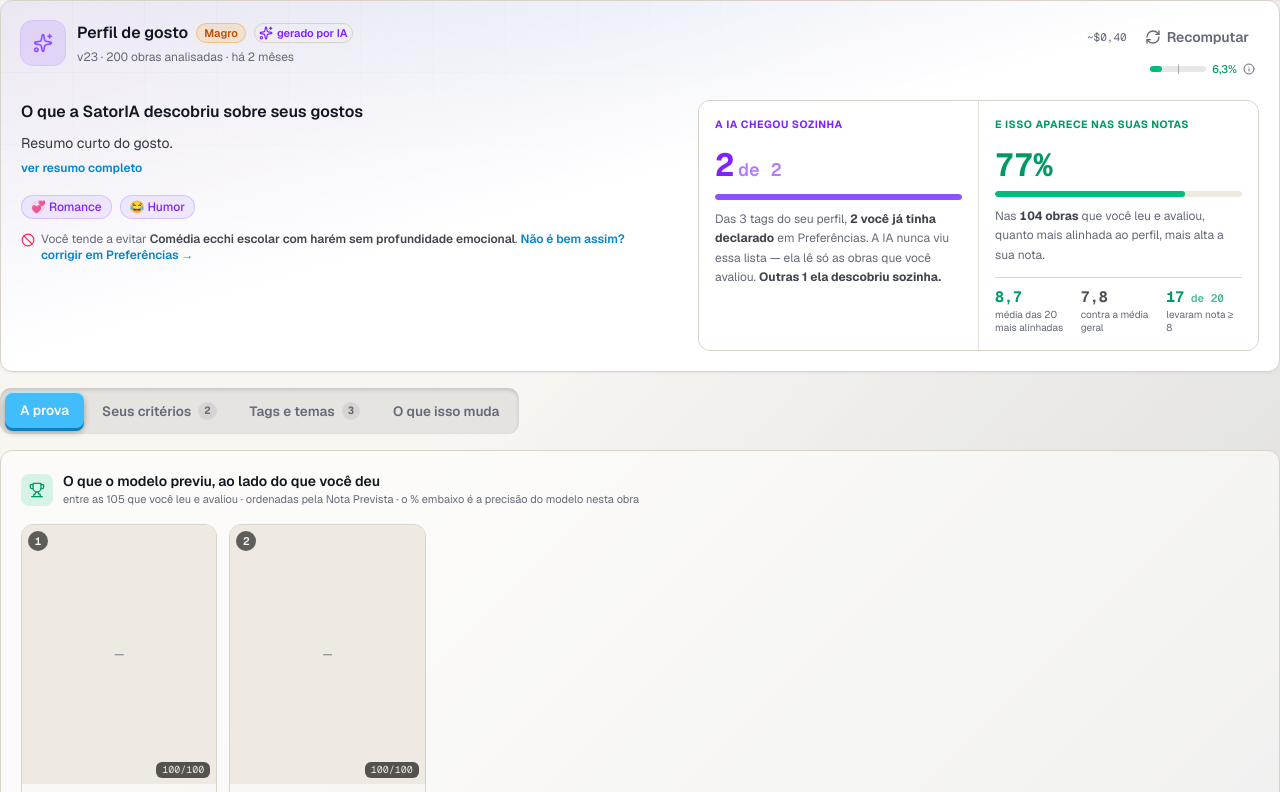
aba Tags e temas › agrupa por ORIGEM, e a descoberta não vira concordância
Click the tab "Tags e temas 3" at (305, 411), box [235,393,375,429]
(page scrolled)
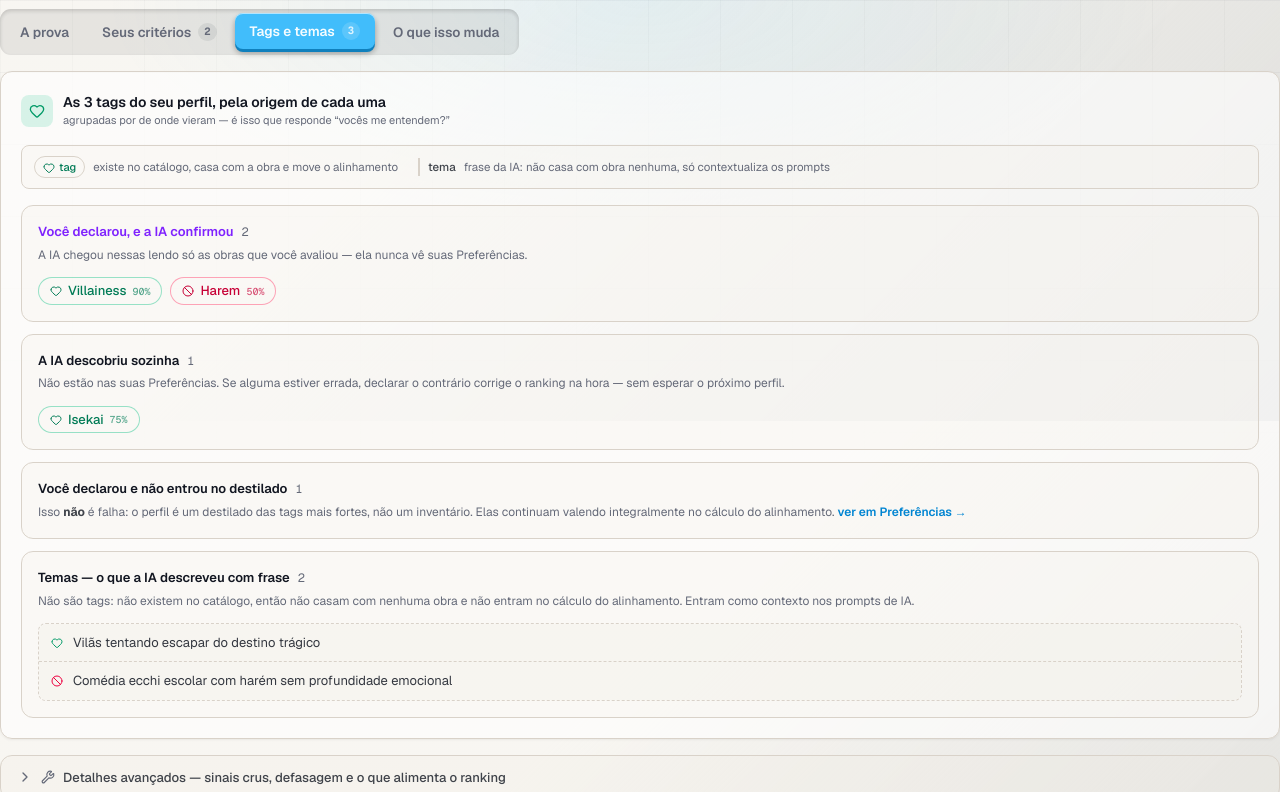
expect the text "Villainess" is shown: met, box [68,282,126,299]
expect the text "Isekai" is shown: met, box [68,411,104,428]
